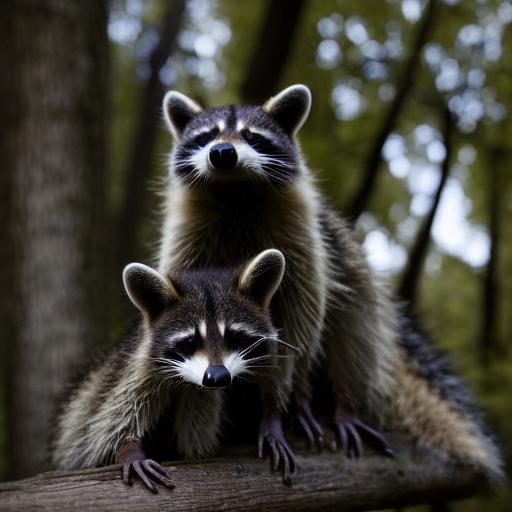raccoon: (158, 81, 412, 413), (58, 243, 301, 463)
